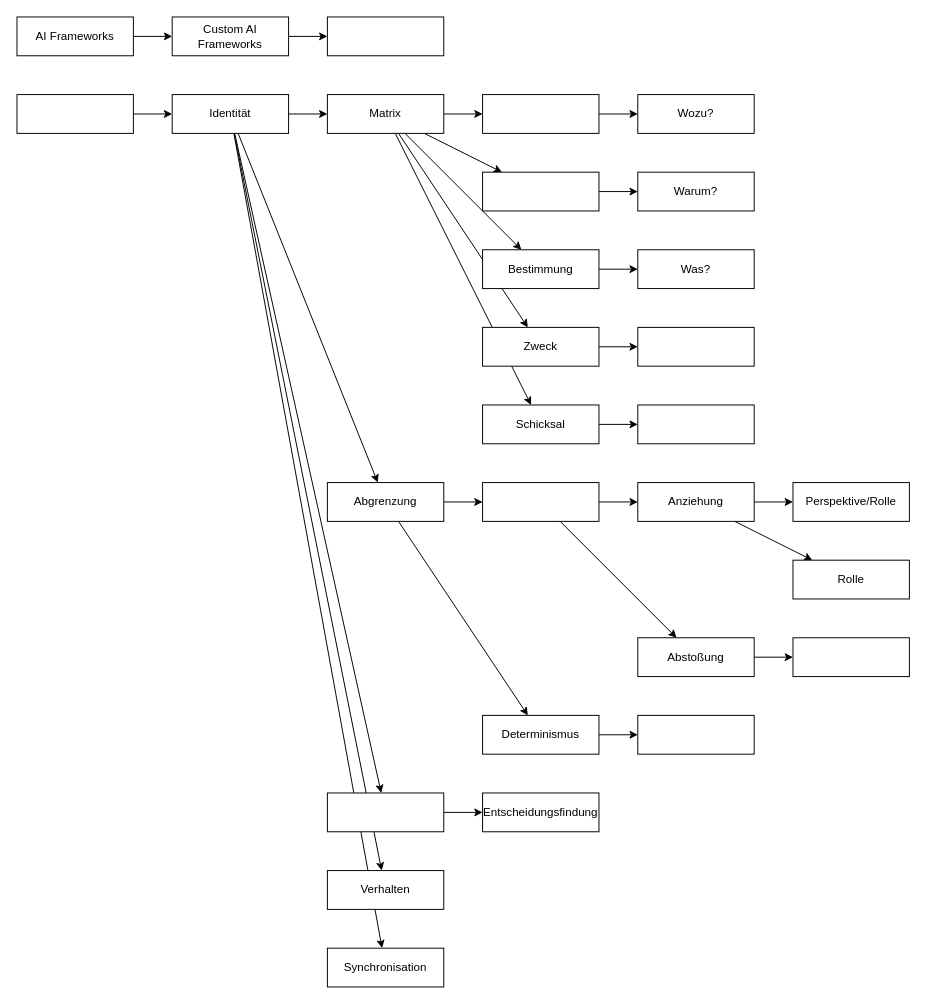
The diagram is 926 pixels wide and 1004 high, and some of its shapes have lost their labels. The box of each missing label's shape, as (x1, y1, x2, y2) in pixels:
Anleitungen: (637, 714, 754, 754)
Bedeutung: (482, 94, 599, 133)
Gedankenframework ANNI: (326, 16, 444, 56)
Heuristik: (482, 482, 599, 521)
Integration: (326, 792, 444, 832)
Richtlinien: (792, 637, 909, 677)
root: (16, 94, 133, 133)
Sinn: (482, 171, 599, 211)
Wie?: (637, 326, 754, 366)
Wohin?: (637, 404, 754, 444)
